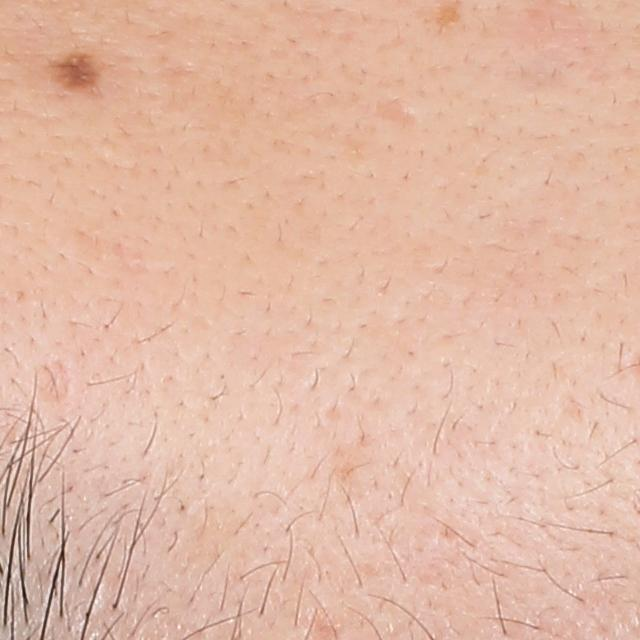atrophic_scar: (31, 354, 76, 408), (369, 97, 417, 130)
nevus: (52, 50, 100, 91)
